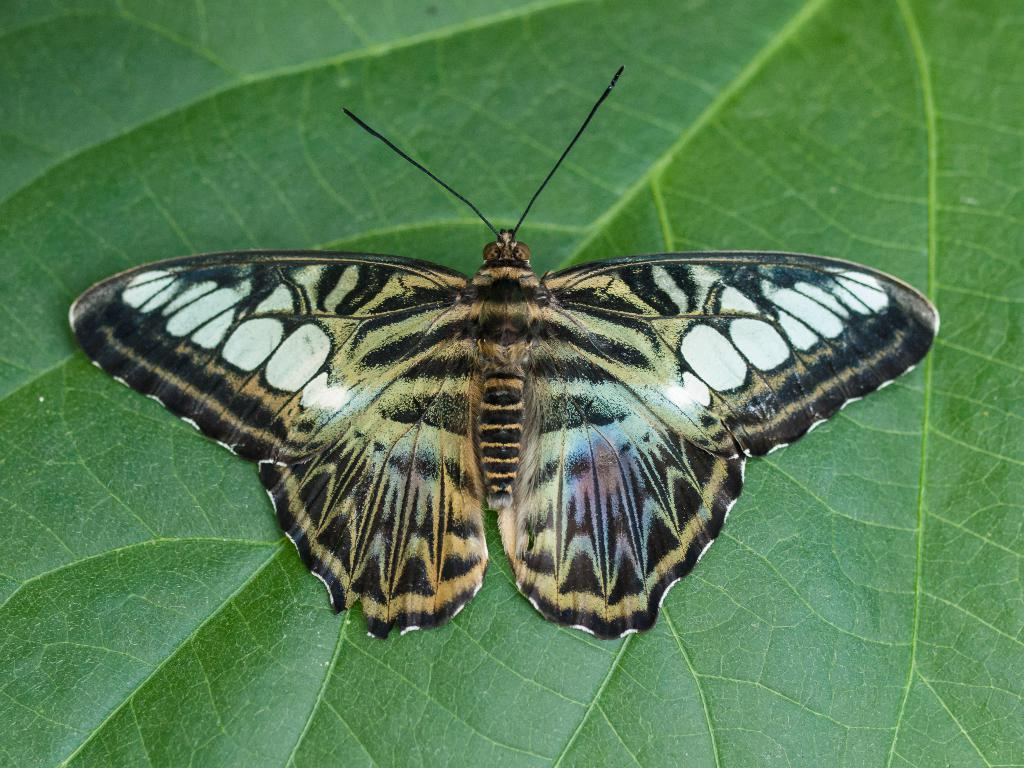Butterfly: (49, 218, 940, 643)
